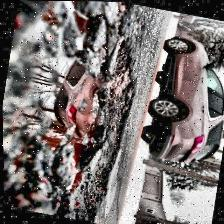pothole: (0, 0, 156, 224)
